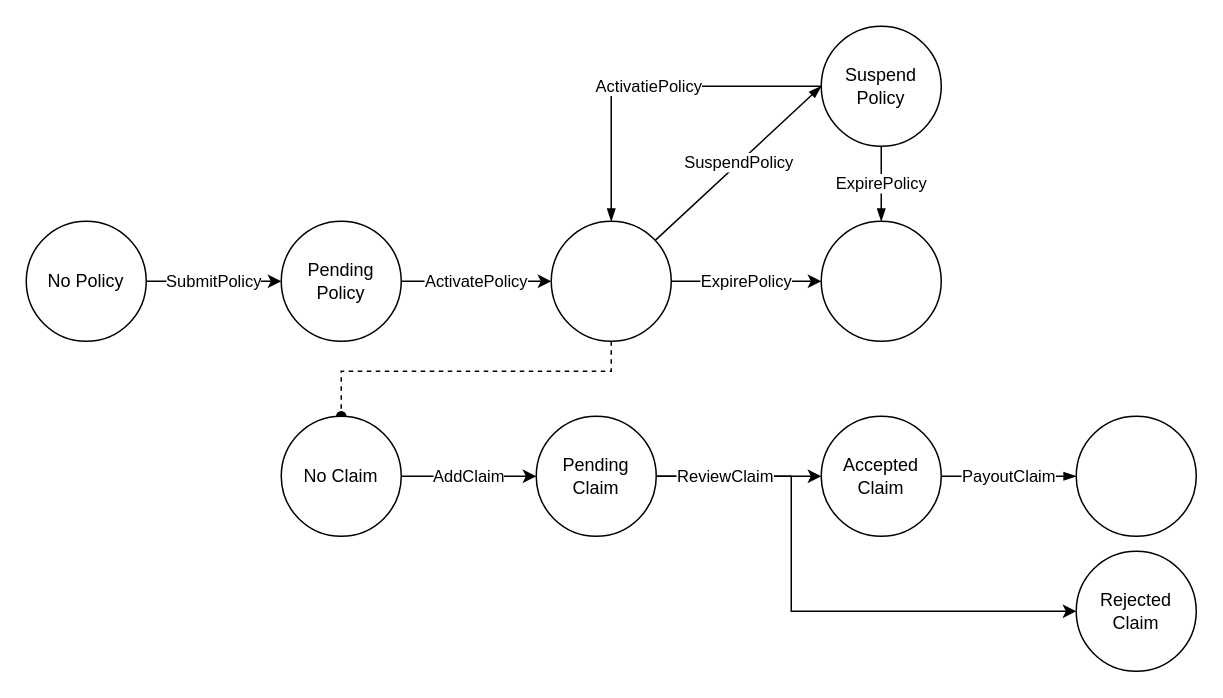
Some shapes in this 1223 by 698 pixel diagram are drawn without their labels. Here are the shapes that lost their labels. From the top down, the centre of each, then its label:
At point 610,280: "Active Policy".
At point 880,280: "Expired Policy".
At point 1135,475: "Completed Claim".
